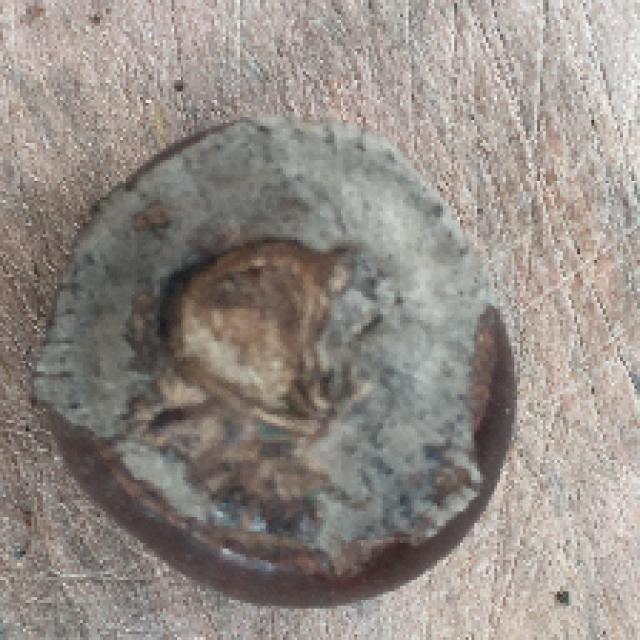damagedHazelnut: (33, 119, 537, 607)
